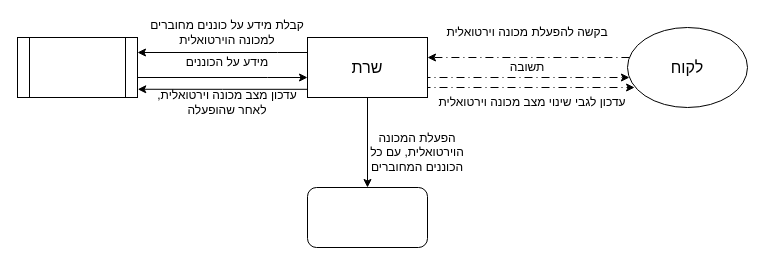
Image size: 765x265. Some labels were removed from this diagram. Each missing label, with the centre of its shape:
מכונה וירטואלית: point (367, 217)
מסד נתונים: point (77, 67)
